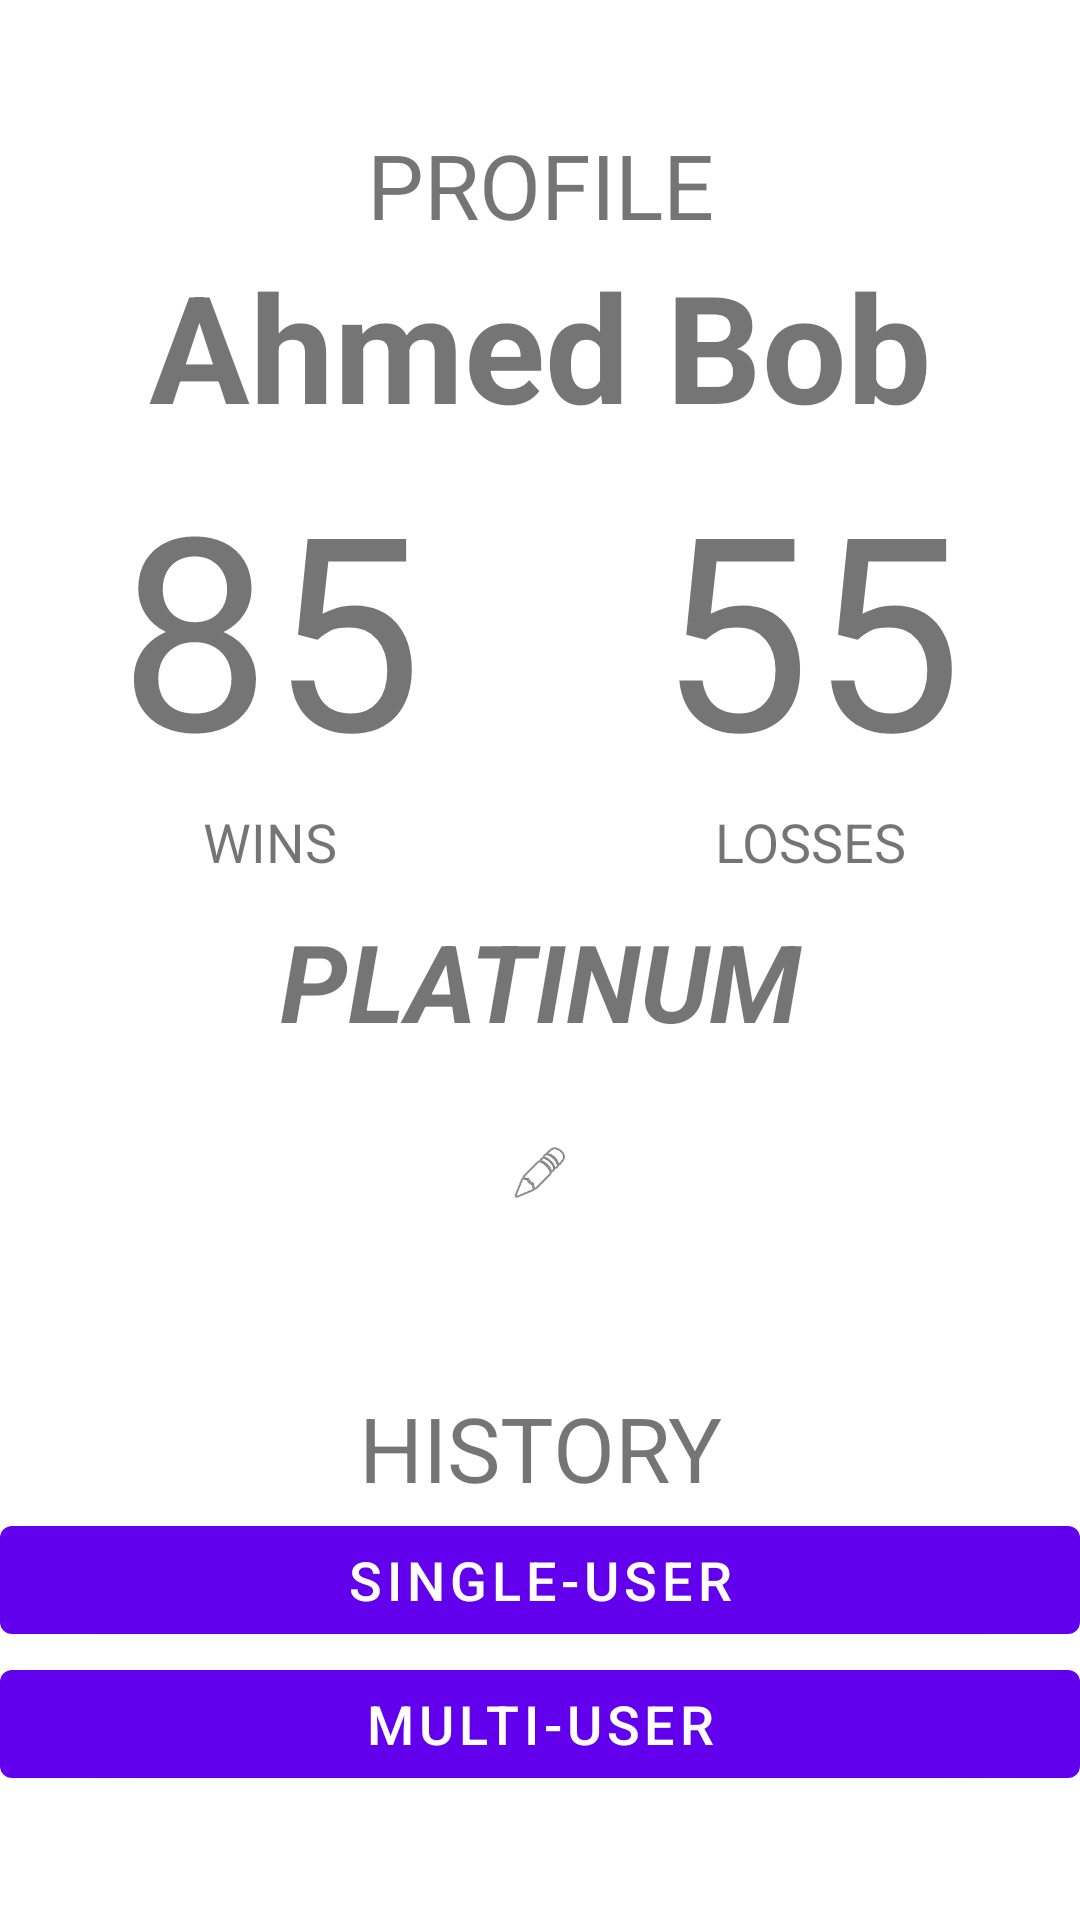

Where icons sit on this 1080px×1920px app screen, as box=[x1, y1, x2, y2]:
edit: box=[514, 1147, 565, 1198]
